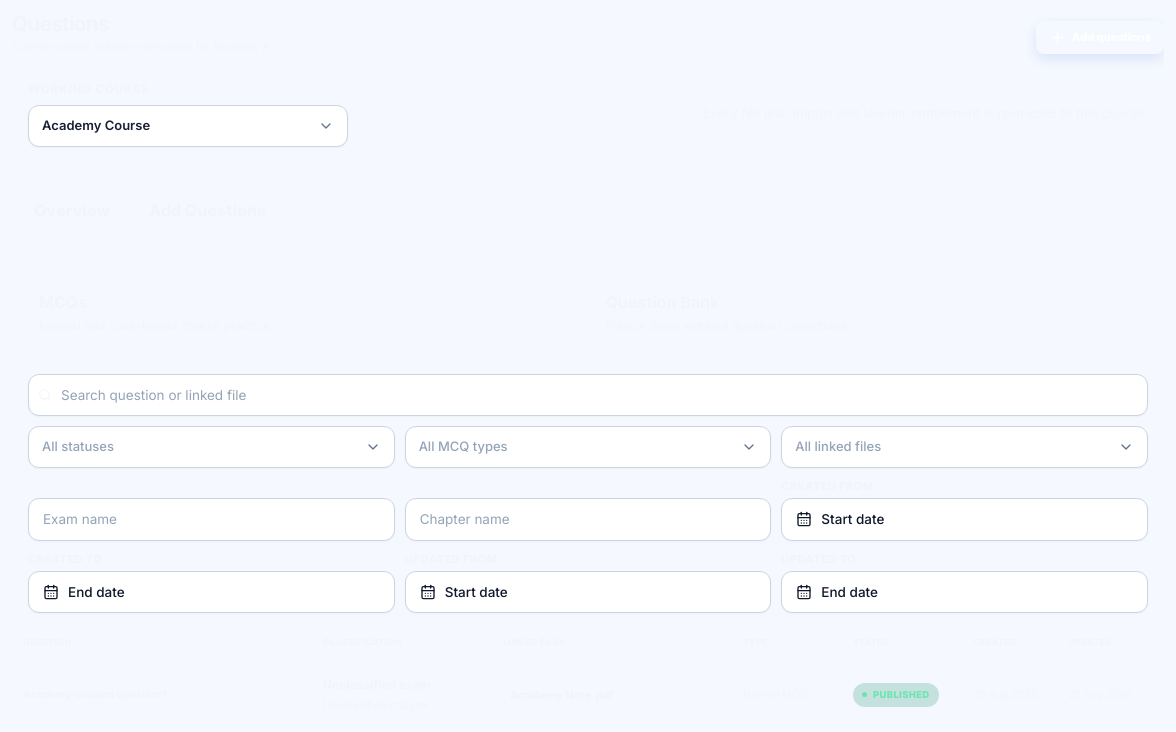
Test: Academy Questions and Broadcast shared-module parity › renders the finalized course and file-scoped Questions workspace
Click the dropdown named "Working course" at (96, 125), box [28,105,348,147]
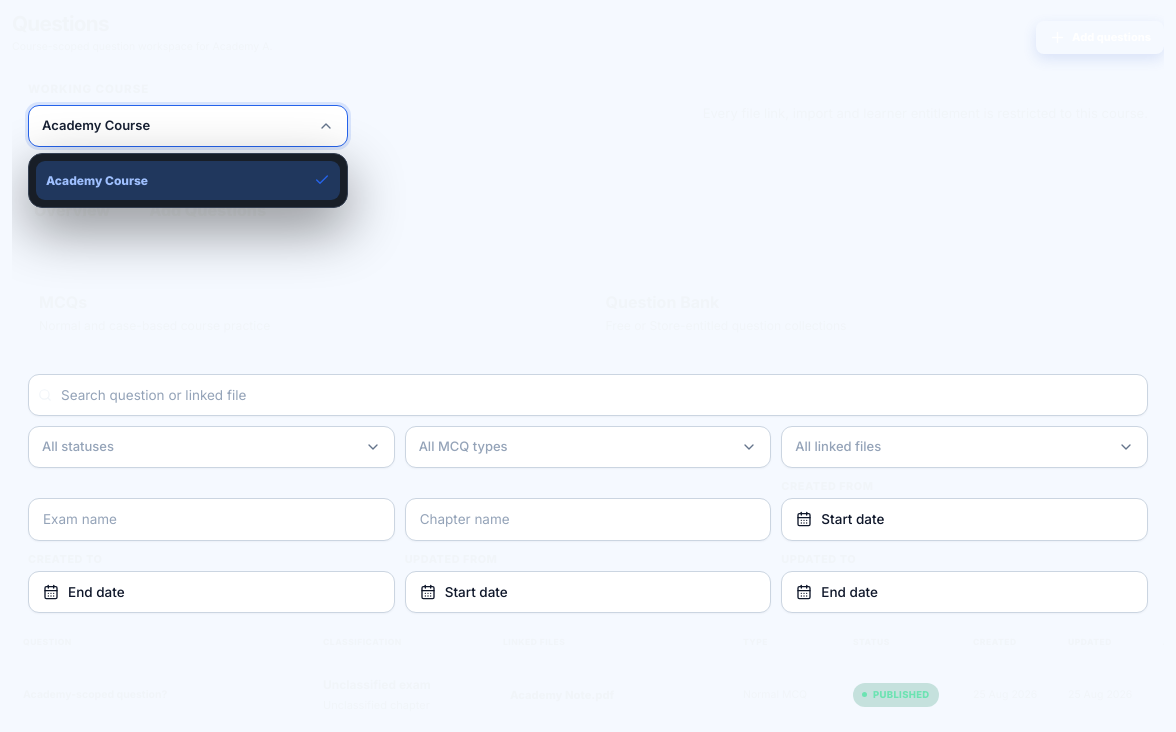
Check: the dropdown named "Question type" is shown, box [405,426,771,468]
Check: the option "Academy Course" is shown, box [36,161,340,200]
